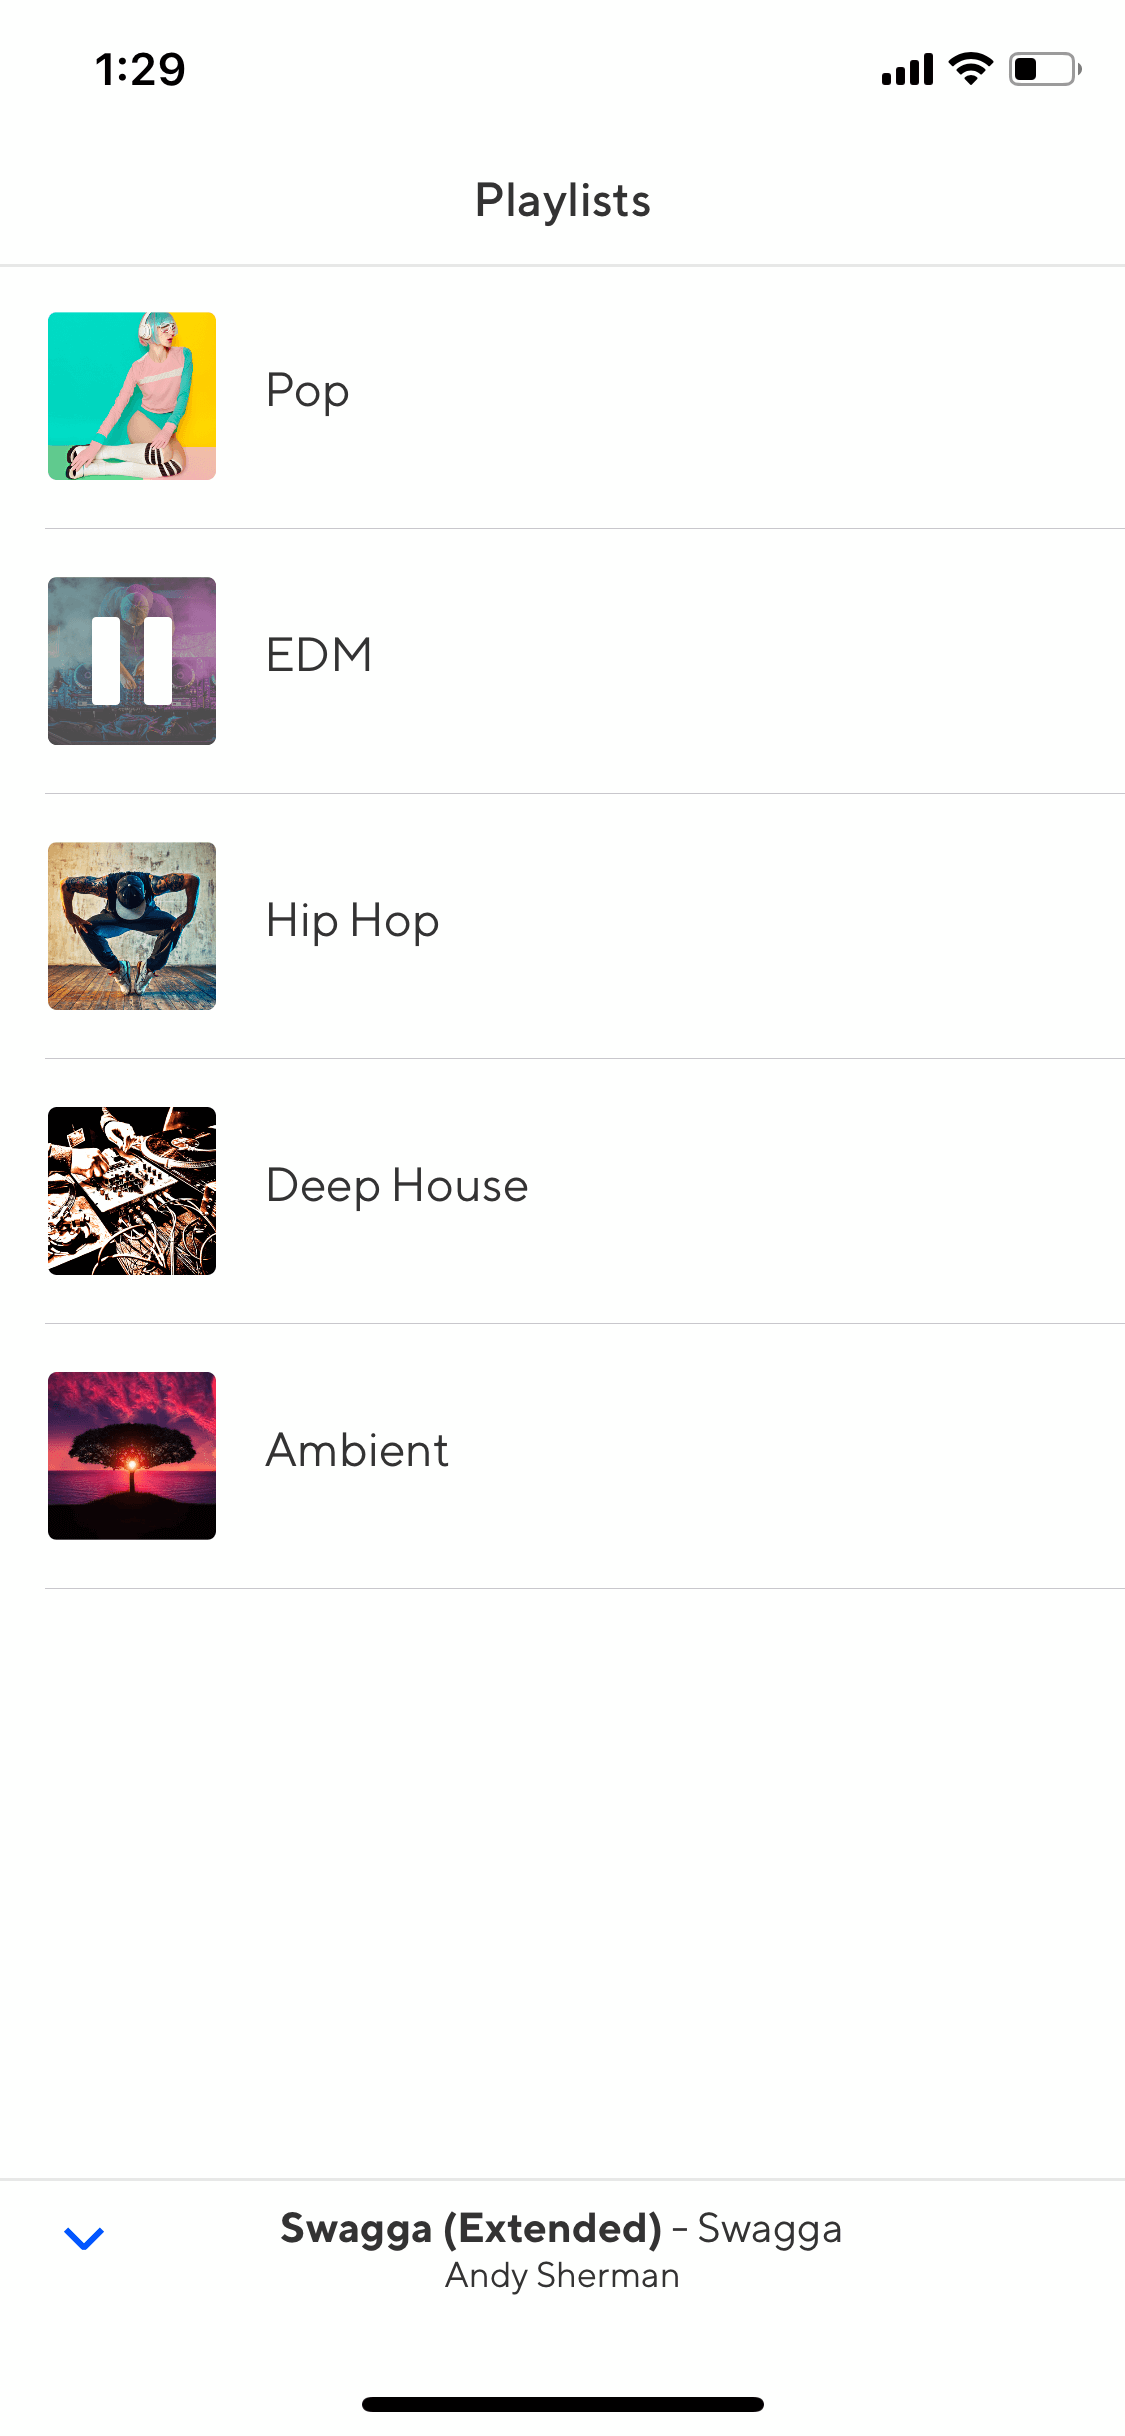Buttons: (12, 2184, 1105, 2324)
